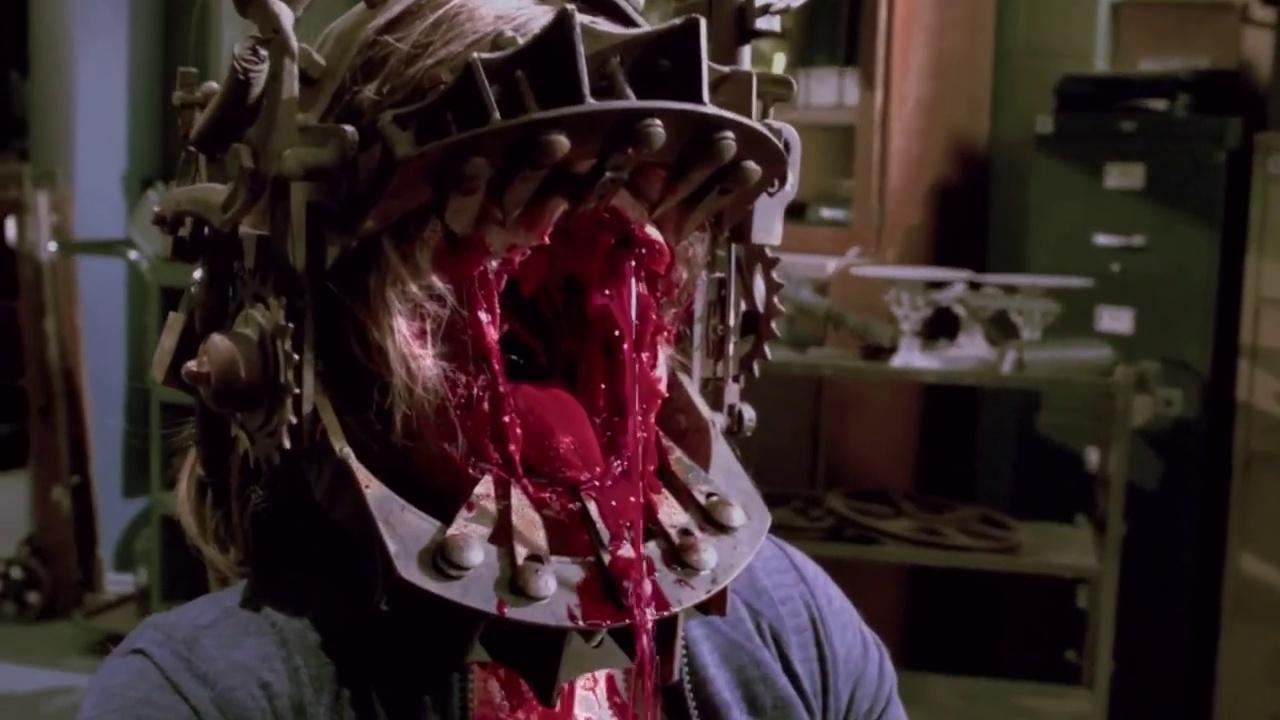Fire: (442, 189, 717, 720)
